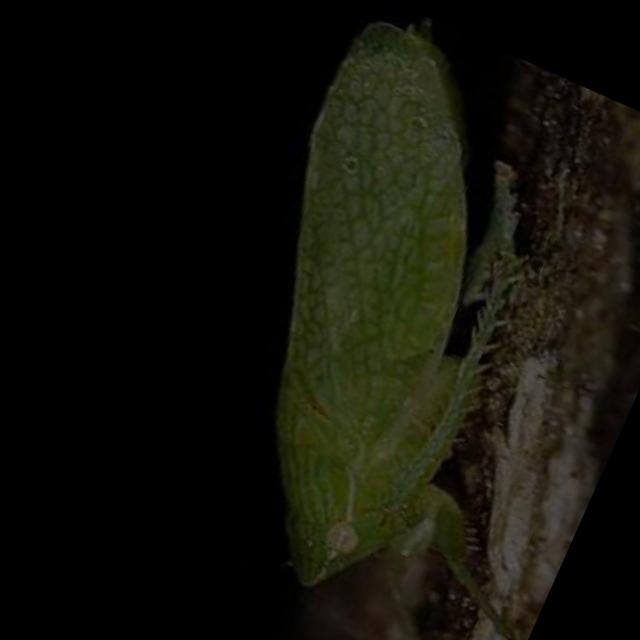green-leafhopper: (141, 1, 640, 637)
